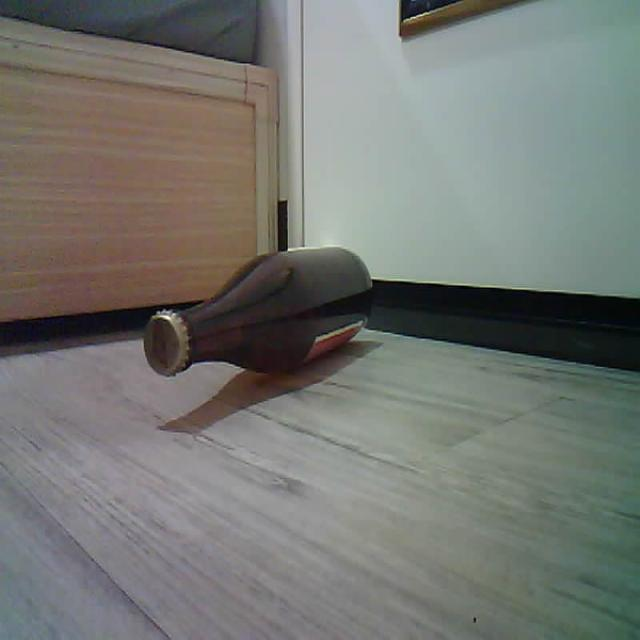bottle: (144, 246, 371, 375)
